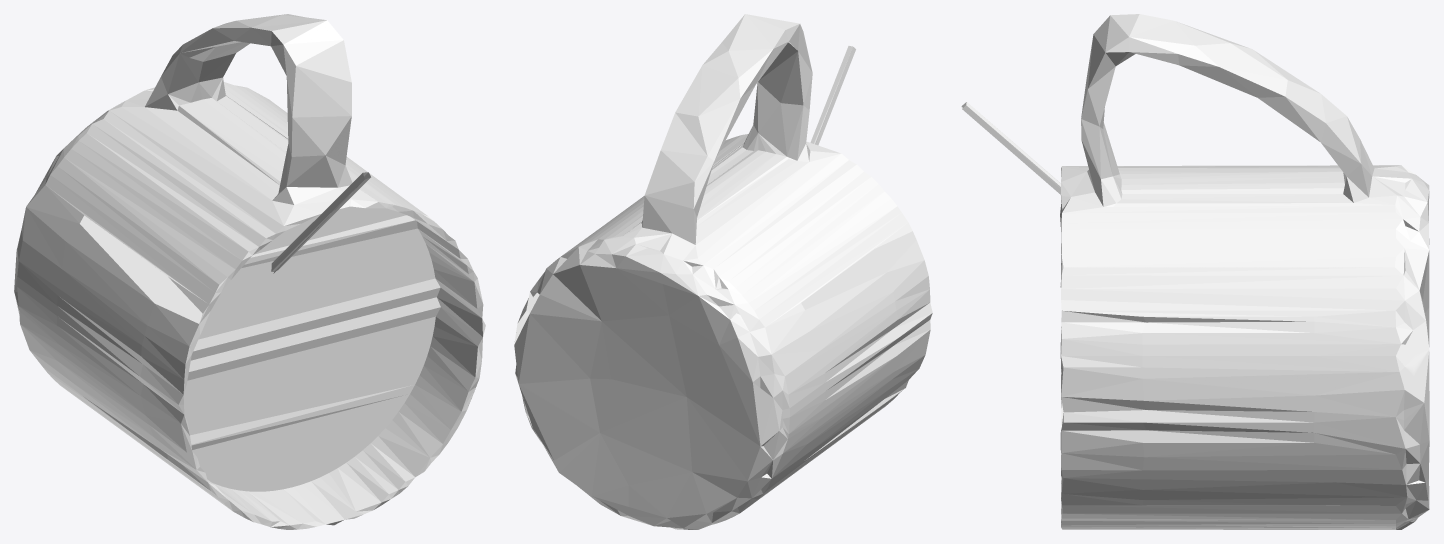
Rendered from model_align.obj.
3 renders of one model, left to right at view 1: azimuth 30°, elevation 25°; view 2: azimuth 150°, elevation 25°; view 3: azimuth 270°, elevation 25°, orthographic. The views are drawn at different scales.
Size of the model in its own units: 0.0745 by 0.1102 by 0.0955.
